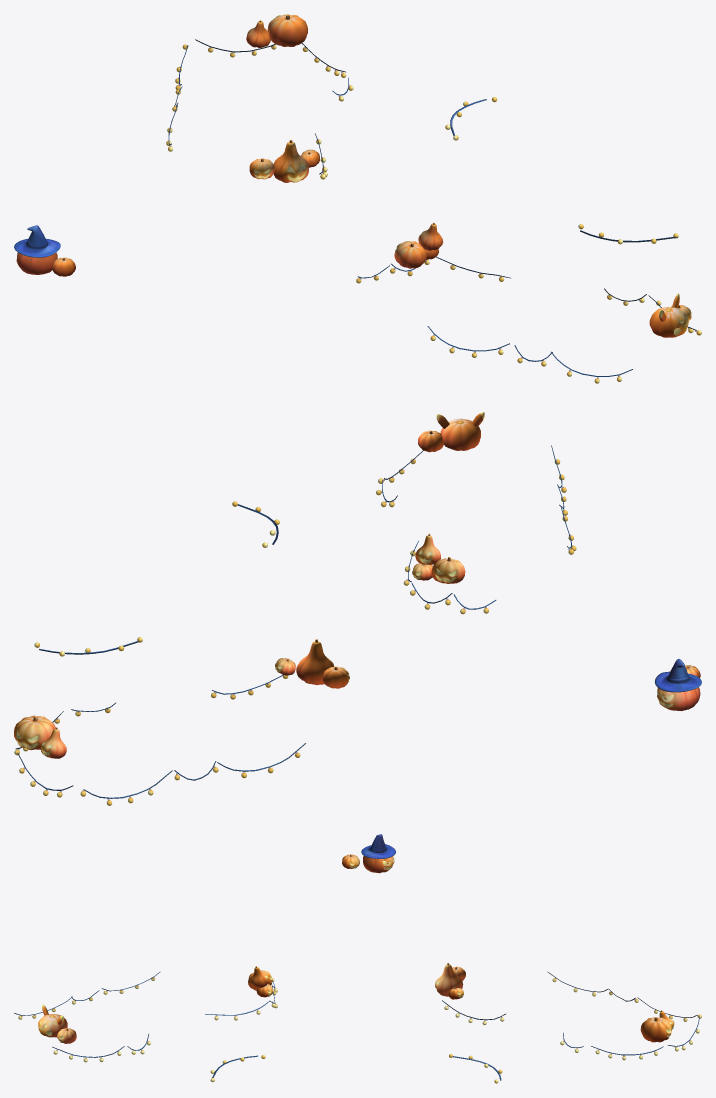
The model's file is pref_sm_4v4beachtech_WSJ_bk_decorate_C02_lv2.fbx.
3 renders of one model, top to bottom at view 1: azimuth 30°, elevation 25°; view 2: azimuth 150°, elevation 25°; view 3: azimuth 270°, elevation 25°, orthographic. The views are drawn at different scales.
Parts seen in each view (by area): view 1: sm_4v4beachtech_WSJ_bk_decorate_C02_b_lv2, sm_4v4beachtech_WSJ_bk_decorate_C02_a_lv2; view 2: sm_4v4beachtech_WSJ_bk_decorate_C02_b_lv2, sm_4v4beachtech_WSJ_bk_decorate_C02_a_lv2; view 3: sm_4v4beachtech_WSJ_bk_decorate_C02_b_lv2, sm_4v4beachtech_WSJ_bk_decorate_C02_a_lv2.
Part boxes in pixels (left/top/right/bottom): sm_4v4beachtech_WSJ_bk_decorate_C02_b_lv2: left=14, top=14, right=691, bottom=337; sm_4v4beachtech_WSJ_bk_decorate_C02_a_lv2: left=166, top=39, right=701, bottom=383; sm_4v4beachtech_WSJ_bk_decorate_C02_b_lv2: left=14, top=412, right=701, bottom=758; sm_4v4beachtech_WSJ_bk_decorate_C02_a_lv2: left=14, top=445, right=576, bottom=805; sm_4v4beachtech_WSJ_bk_decorate_C02_b_lv2: left=38, top=834, right=674, bottom=1043; sm_4v4beachtech_WSJ_bk_decorate_C02_a_lv2: left=14, top=971, right=701, bottom=1083.
Bounding box in the file's own units: 24.42 × 3.29 × 34.09.
